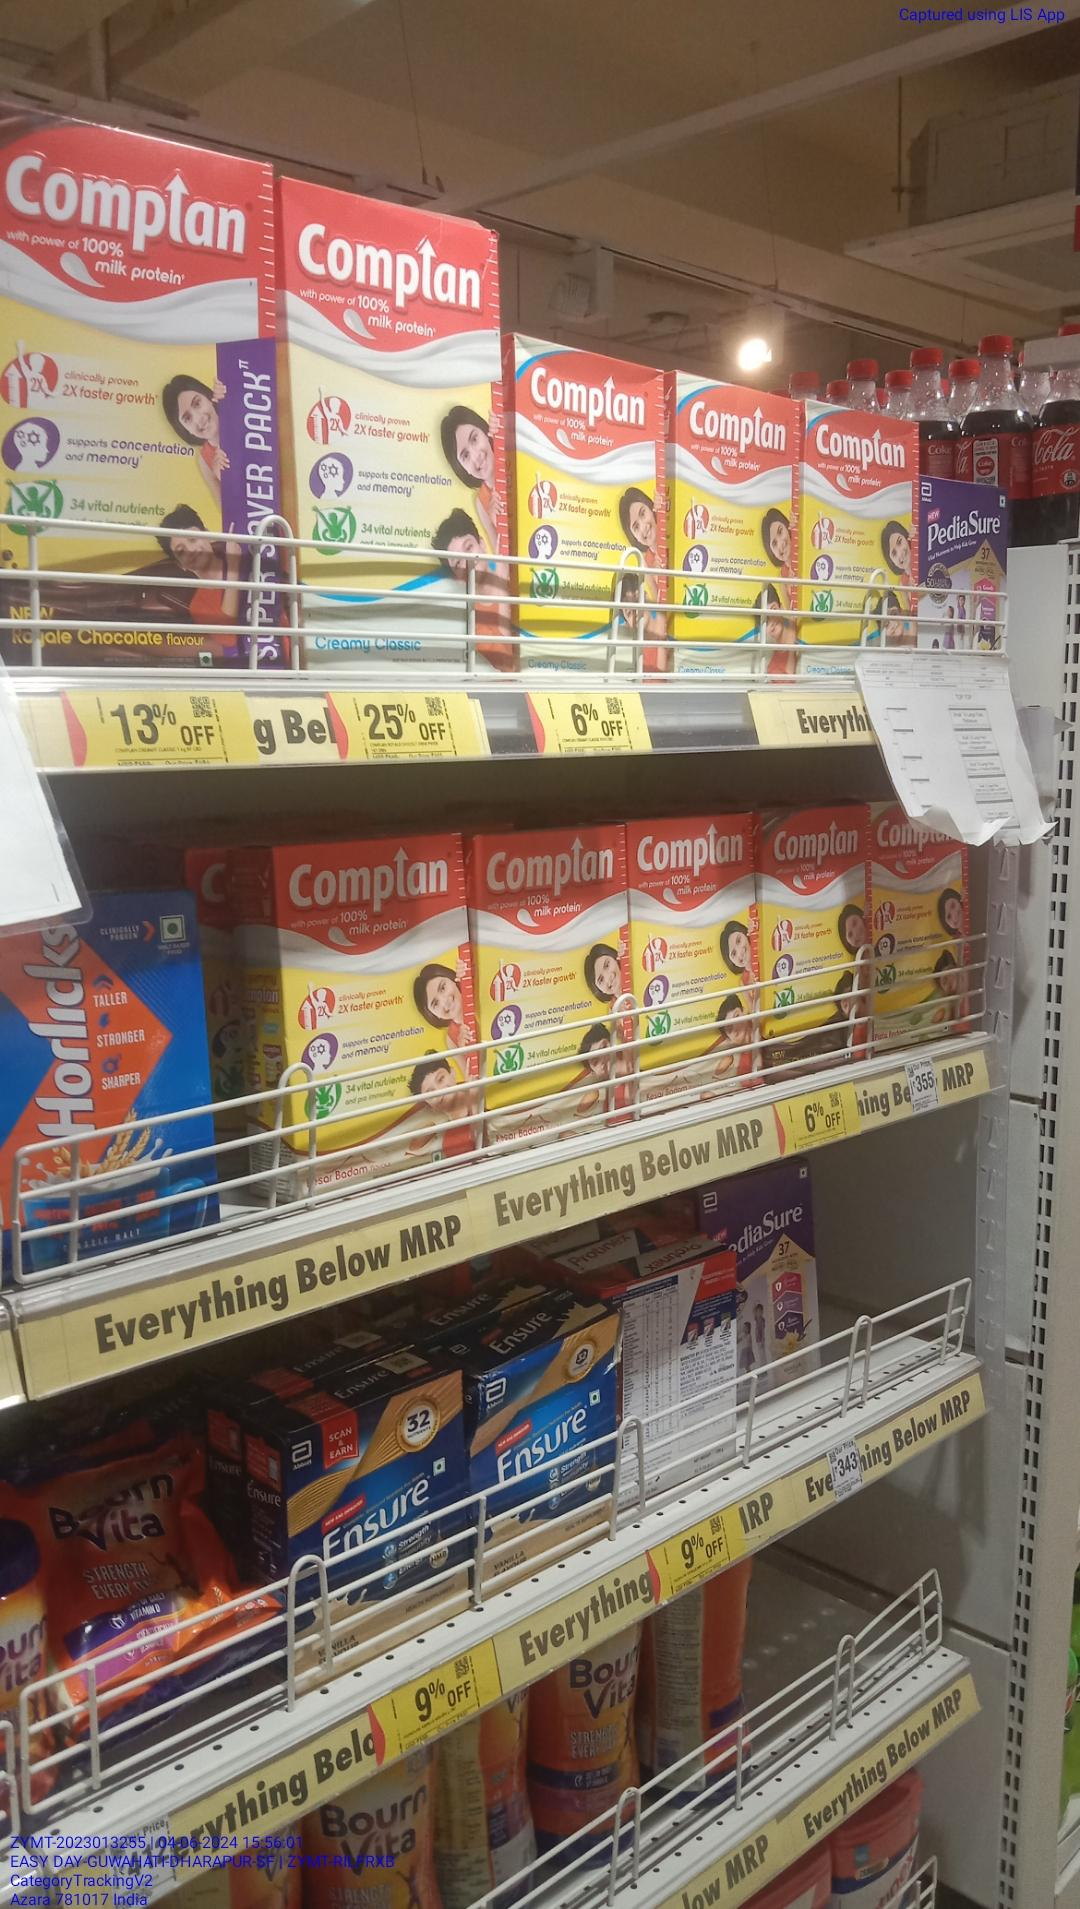ENSURE_VANILLA_400_G_PACK: (287, 1360, 465, 1697), (474, 1302, 621, 1605)
PEDIASURE_VANILLA_500_G_PACK: (917, 472, 1005, 654)
